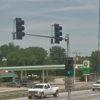Traffic light: (9, 11, 72, 55)
